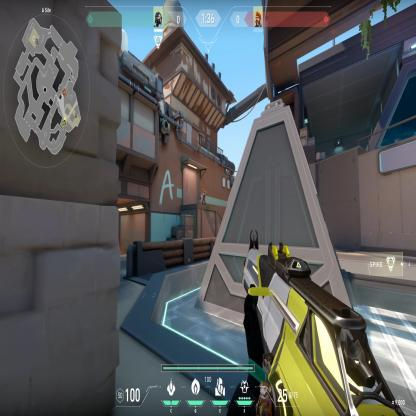enemy: (202, 187, 206, 205)
